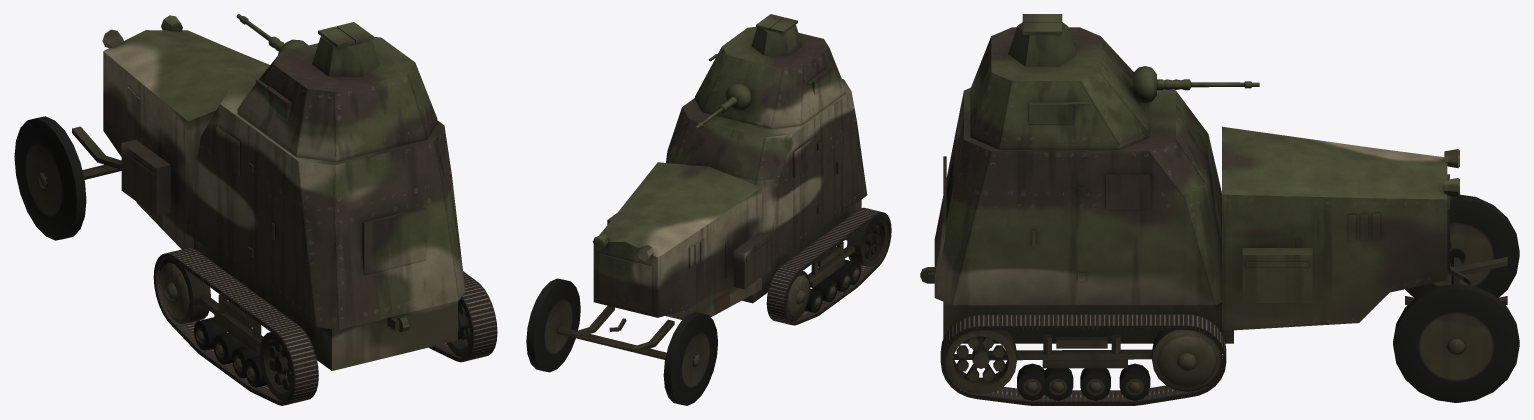
Rendered from WZ28_CKM.fbx.
3 renders of one model, left to right at view 1: azimuth 30°, elevation 25°; view 2: azimuth 150°, elevation 25°; view 3: azimuth 270°, elevation 25°, orthographic. The views are drawn at different scales.
Visible parts, largest first — view 1: Chassis, Tourelle_01, Chenille_Gauche_01, Roue_Gauche_01, Chenille_Droite_01, Roue_G1, Roue_G6, Roue_D6, Roue_G2, Roue_G3, Roue_G5, Roue_G4; view 2: Chassis, Tourelle_01, Roue_Gauche_01, Chenille_Gauche_01, Roue_Droite_01, Roue_G6, Roue_G1, Axe_Canon_01, Roue_G3, Roue_G4; view 3: Chassis, Tourelle_01, Roue_Droite_01, Chenille_Droite_01, Roue_Gauche_01, Roue_D1, Roue_D6, Roue_D2, Roue_D5, Roue_D3, Roue_D4, Axe_Canon_01 (+1 smaller).
Part boxes in pixels (left/top/right/bottom): Chassis: left=72, top=15, right=465, bottom=370; Tourelle_01: left=237, top=22, right=437, bottom=161; Chenille_Gauche_01: left=153, top=247, right=318, bottom=405; Roue_Gauche_01: left=14, top=116, right=86, bottom=240; Chenille_Droite_01: left=429, top=271, right=497, bottom=362; Roue_G1: left=159, top=257, right=210, bottom=324; Roue_G6: left=259, top=332, right=292, bottom=400; Roue_D6: left=447, top=299, right=471, bottom=357; Roue_G2: left=193, top=317, right=227, bottom=350; Roue_G3: left=213, top=332, right=246, bottom=364; Roue_G5: left=245, top=355, right=266, bottom=387; Roue_G4: left=232, top=346, right=259, bottom=378; Chassis: left=556, top=79, right=867, bottom=359; Tourelle_01: left=695, top=14, right=845, bottom=128; Roue_Gauche_01: left=663, top=312, right=717, bottom=405; Chenille_Gauche_01: left=766, top=207, right=891, bottom=325; Roue_Droite_01: left=526, top=278, right=580, bottom=372; Roue_G6: left=847, top=214, right=887, bottom=266; Roue_G1: left=786, top=271, right=810, bottom=321; Axe_Canon_01: left=725, top=83, right=751, bottom=110; Roue_G3: left=812, top=278, right=837, bottom=302; Roue_G4: left=826, top=267, right=850, bottom=291; Chassis: left=920, top=88, right=1507, bottom=368; Tourelle_01: left=970, top=14, right=1148, bottom=149; Roue_Droite_01: left=1393, top=283, right=1519, bottom=402; Chenille_Droite_01: left=940, top=314, right=1226, bottom=405; Roue_Gauche_01: left=1405, top=194, right=1519, bottom=297; Roue_D1: left=1152, top=330, right=1221, bottom=391; Roue_D6: left=945, top=327, right=1016, bottom=393; Roue_D2: left=1119, top=363, right=1150, bottom=400; Roue_D5: left=1017, top=363, right=1044, bottom=400; Roue_D3: left=1080, top=368, right=1110, bottom=400; Roue_D4: left=1045, top=368, right=1073, bottom=400; Axe_Canon_01: left=1133, top=66, right=1156, bottom=103.
Size of the model in its own units: 145 by 350 by 215.
3 materials, 3 textured.
